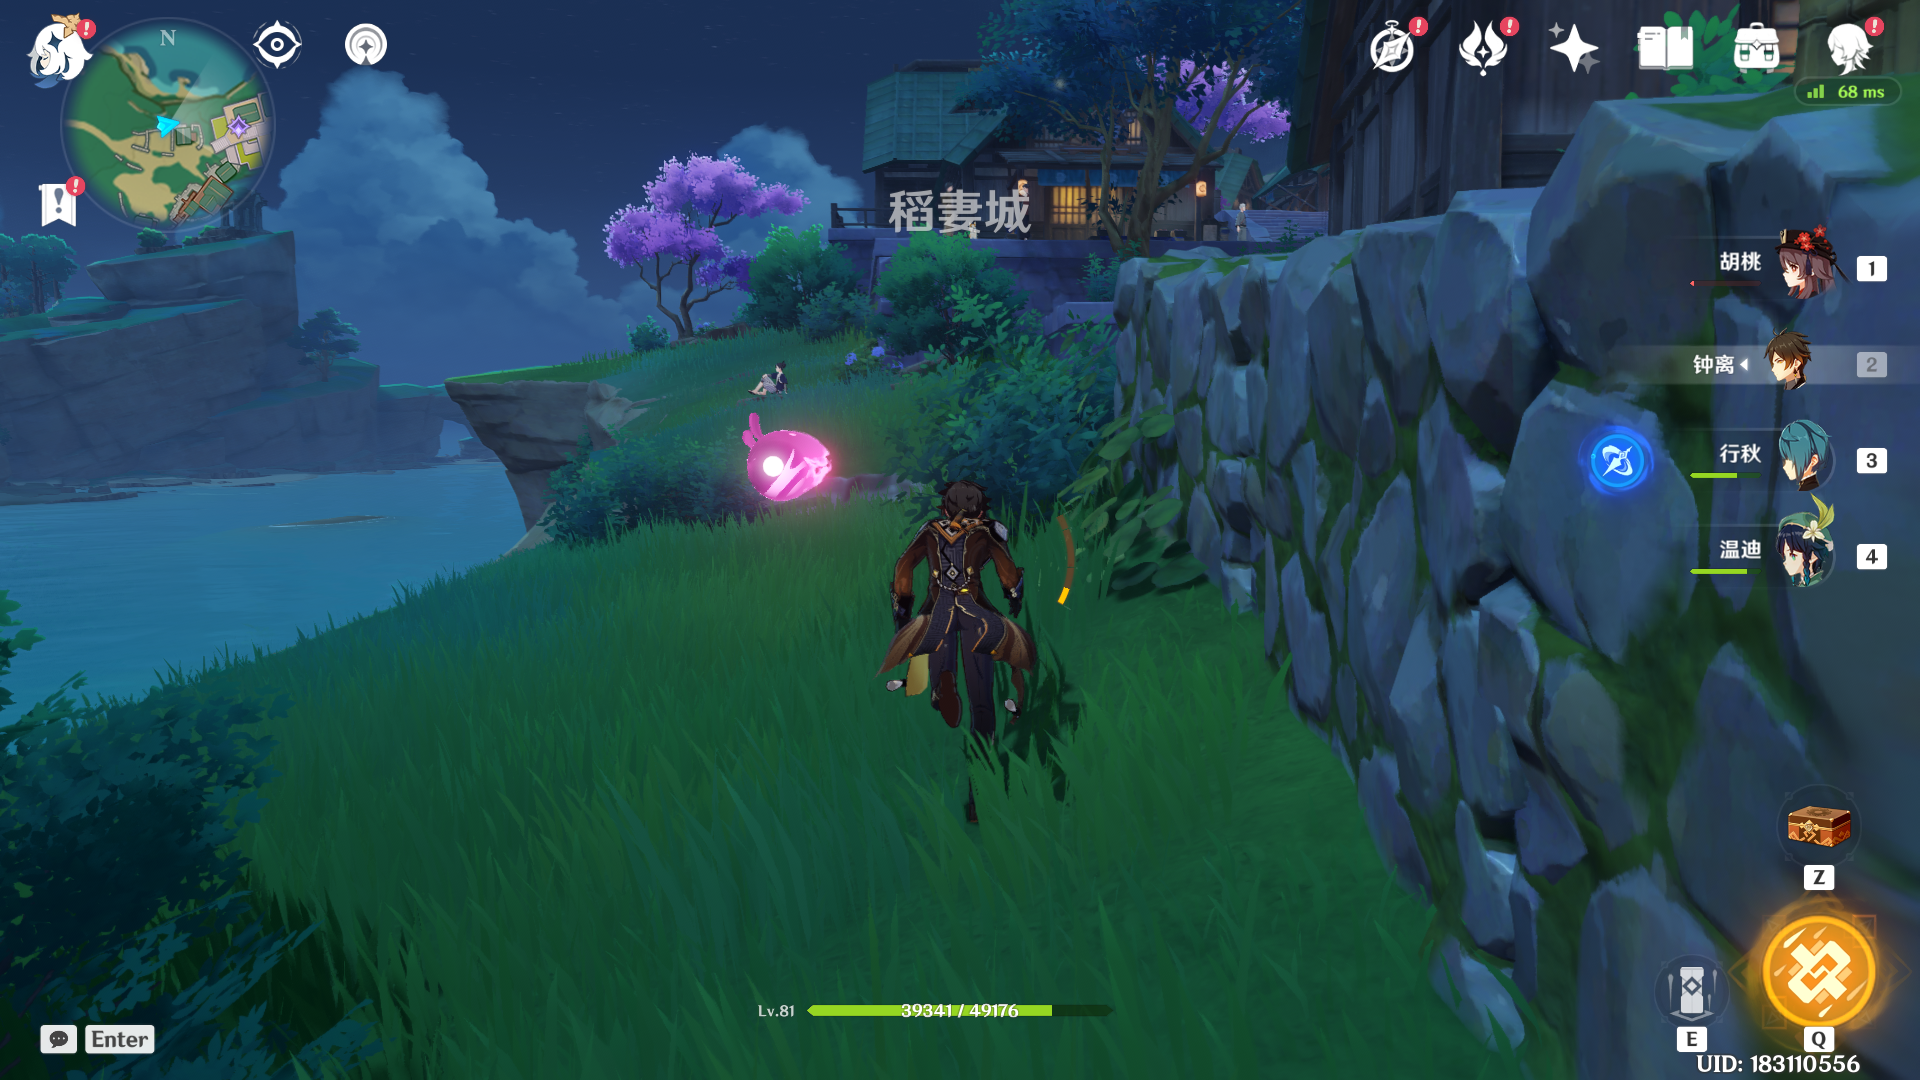character: (852, 465, 1087, 837)
